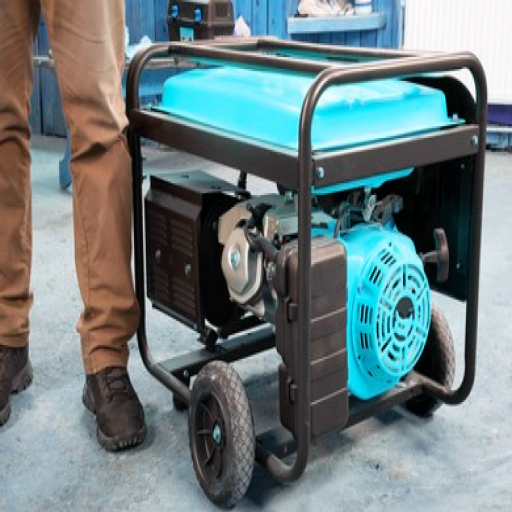portable_generator: (126, 36, 488, 481)
